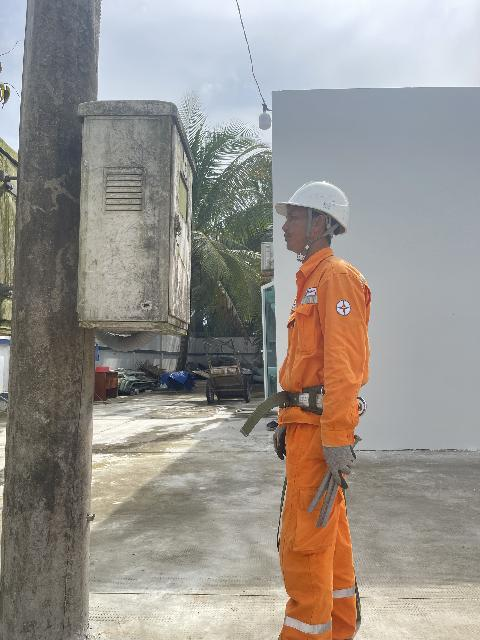gloves: (309, 427, 362, 486), (260, 410, 295, 458)
harness: (257, 372, 349, 432)
helmet: (276, 164, 354, 240)
